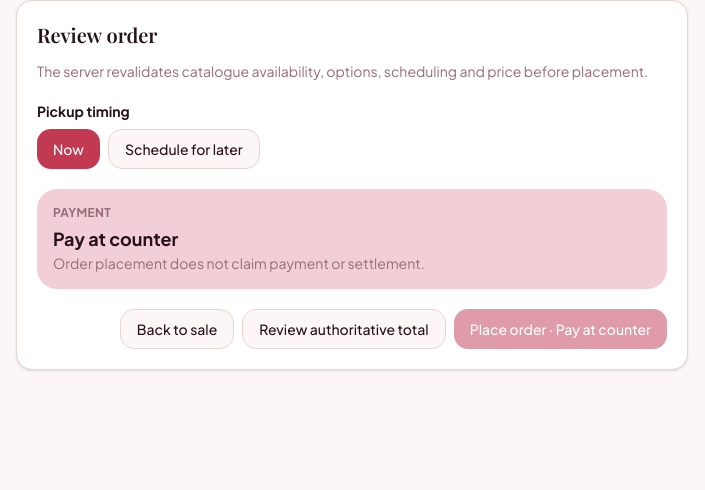
authoritative POS checkout › offers server-policy-derived scheduled pickup without inventing branch capacity
Click the button "Schedule for later" at (184, 149), box [108,129,260,169]
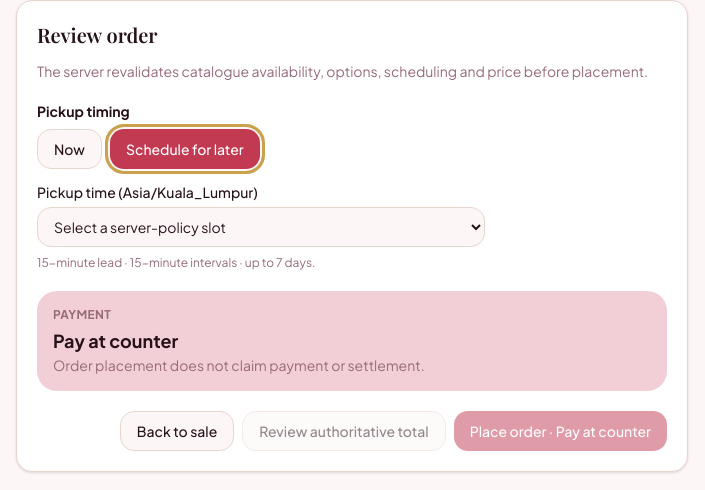
Check: the text "15-minute lead · 15-minute intervals · up to 7 days." is shown, box [37,255,316,270]
